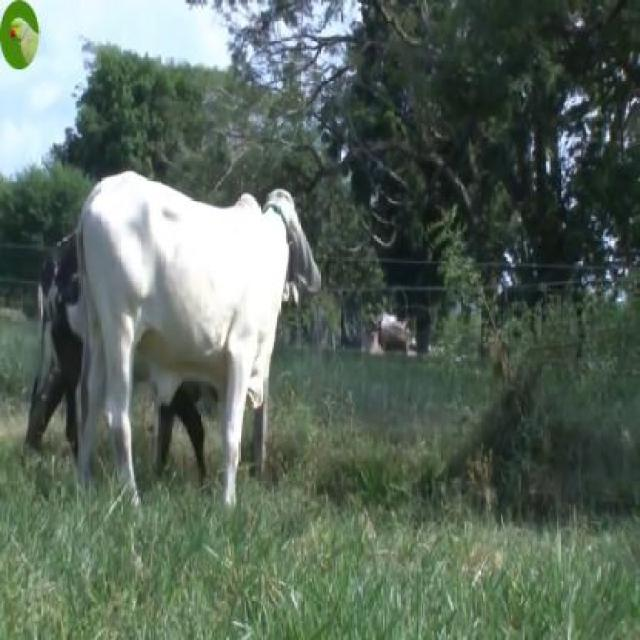Cow: (77, 171, 321, 517)
